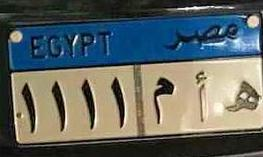1: (47, 78, 71, 133), (108, 74, 130, 130), (78, 76, 99, 134), (20, 80, 40, 136)
alif: (193, 70, 212, 123)
haa: (222, 75, 263, 118)
meem: (149, 75, 176, 128)
